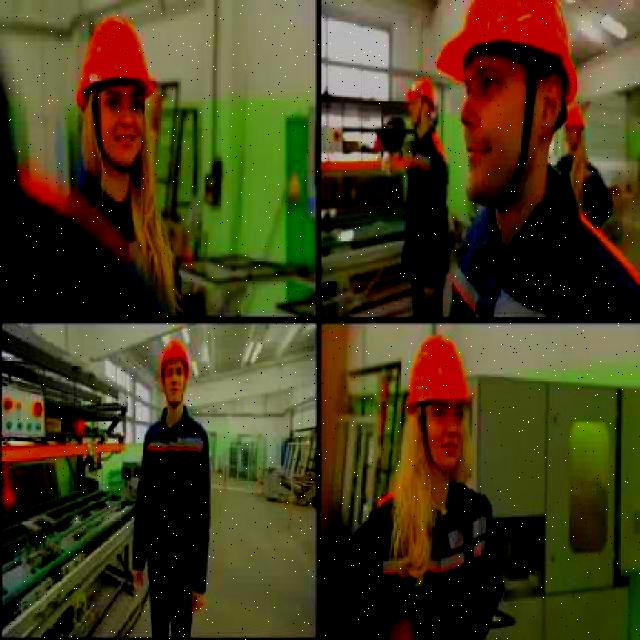Helmet: (434, 0, 578, 105), (74, 16, 154, 112), (405, 334, 473, 418), (158, 338, 190, 387), (406, 79, 436, 115), (564, 104, 586, 130)
Mask: (444, 165, 638, 322), (340, 474, 509, 638), (132, 402, 215, 638), (400, 122, 454, 333)
